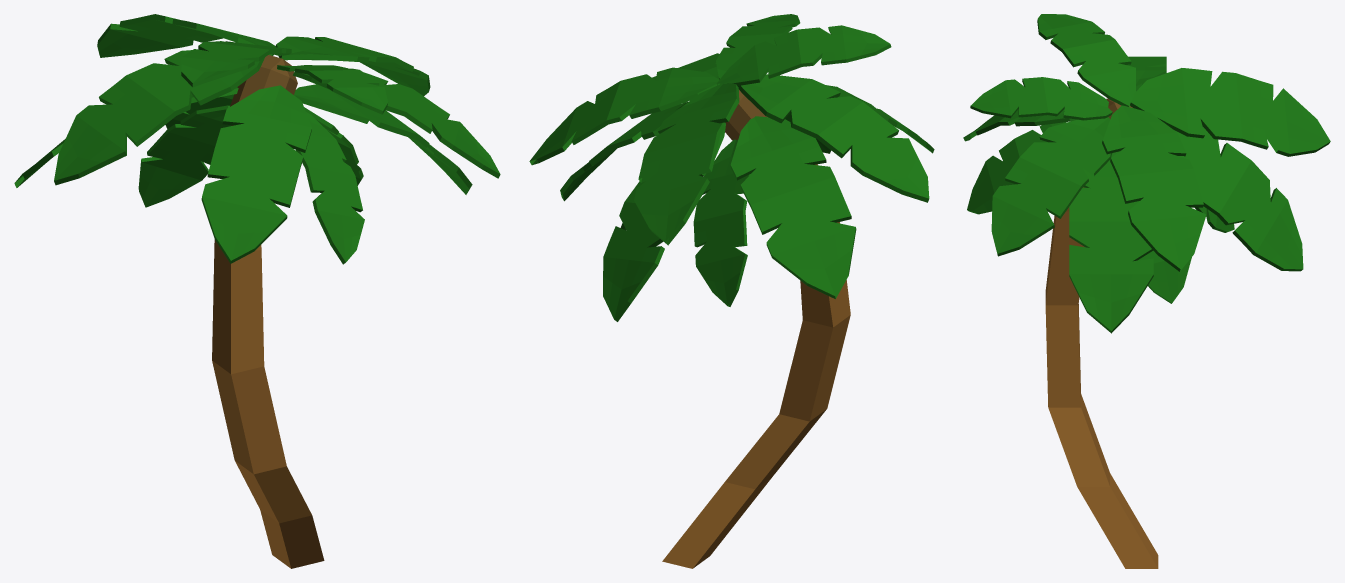
File: palm_tree.fbx
3 views of the same model, side by side, from view 1: azimuth 30°, elevation 25°; view 2: azimuth 150°, elevation 25°; view 3: azimuth 270°, elevation 25° (orthographic). The views are drawn at different scales.
Parts seen in each view (by area): view 1: Tree; view 2: Tree; view 3: Tree.
Boxes of the visible parts, x1,y1,x2,y2 form: Tree: (14, 14, 500, 568); Tree: (529, 14, 934, 568); Tree: (963, 14, 1330, 568).
Size of the model in its own units: 2459 by 3249 by 2234.
